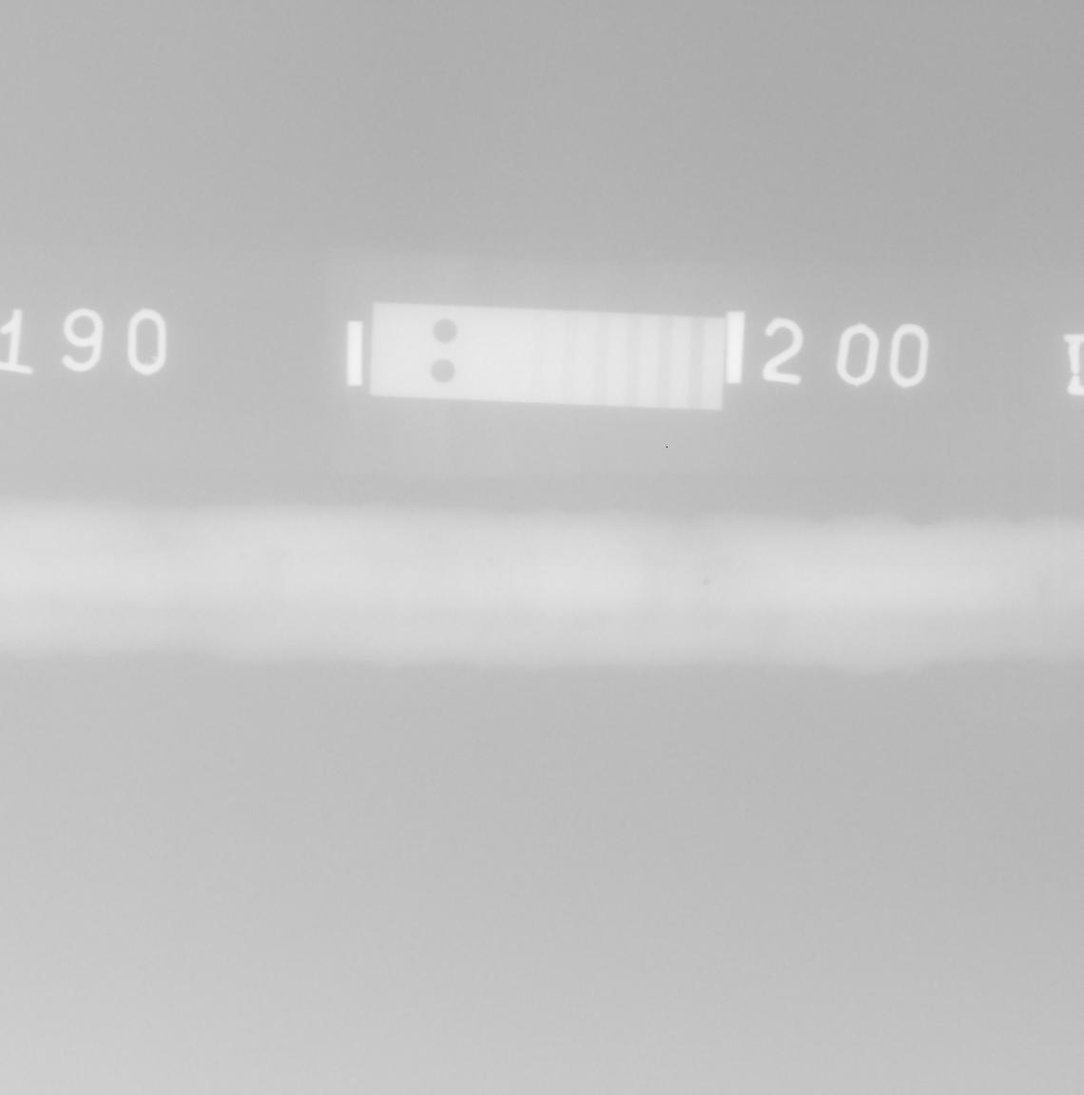Pore/Porosity: (703, 577, 710, 585), (240, 553, 248, 560), (488, 558, 493, 563), (282, 552, 286, 557), (85, 559, 88, 563), (768, 607, 770, 611)
Reference Standard 2: (370, 303, 725, 410)
